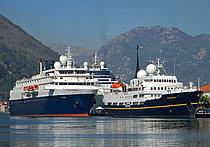Ship: (5, 50, 103, 121), (100, 62, 206, 125)
